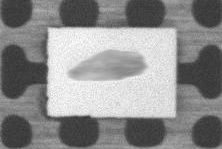DIE_INK: (64, 47, 147, 83)
